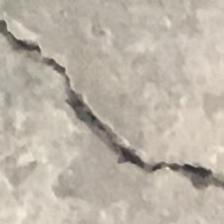Crack: (0, 19, 224, 193)
